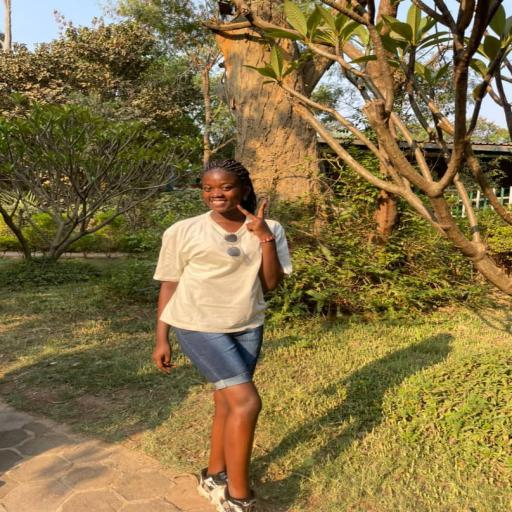LAURENE: (186, 160, 264, 221)
